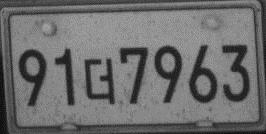1: (51, 47, 83, 107)
3: (220, 43, 251, 102)
6: (187, 43, 218, 104)
7: (118, 46, 150, 105)
9: (152, 44, 183, 104), (16, 48, 47, 107)
더: (83, 56, 118, 106)
